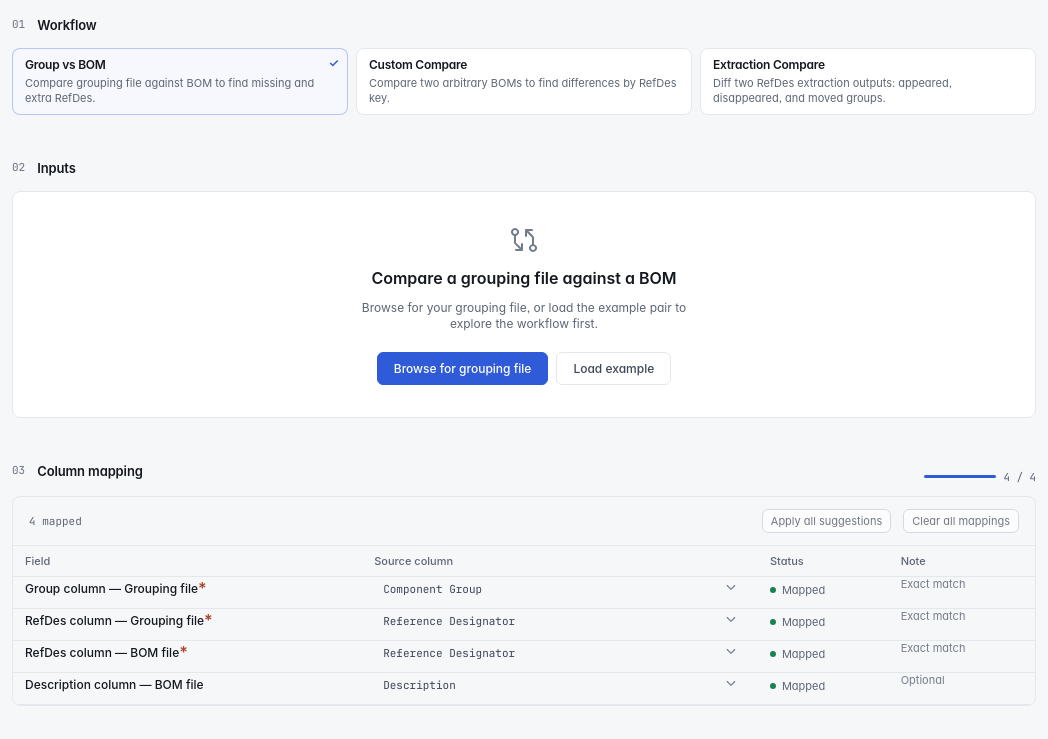
BomCompareTool custom compare workflow › Extraction Compare shows its two slots and hides the mapping card
This screenshot has width=1048, height=739.
Click the button "Extraction Compare": (868, 81) [700, 48, 1036, 115]
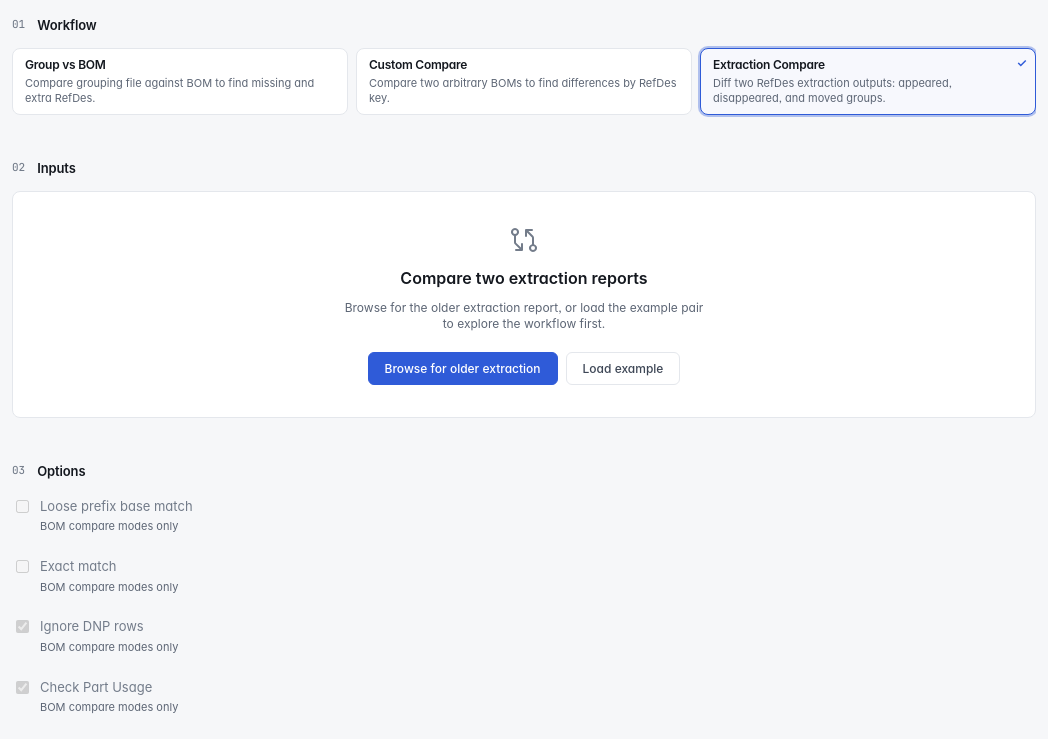
Expected: the heading "Column mapping" is gone
Expected: the checkbox labelled "Ignore DNP rows BOM compare modes only" is disabled, [16, 620, 29, 633]
Expected: the text "BOM compare modes only" below "Loose prefix base match" is shown, [40, 519, 178, 533]
# Entering through the card's EmptyState reveals both extraction slots.
Click the button "Browse for older extraction": (463, 369) [368, 352, 558, 385]
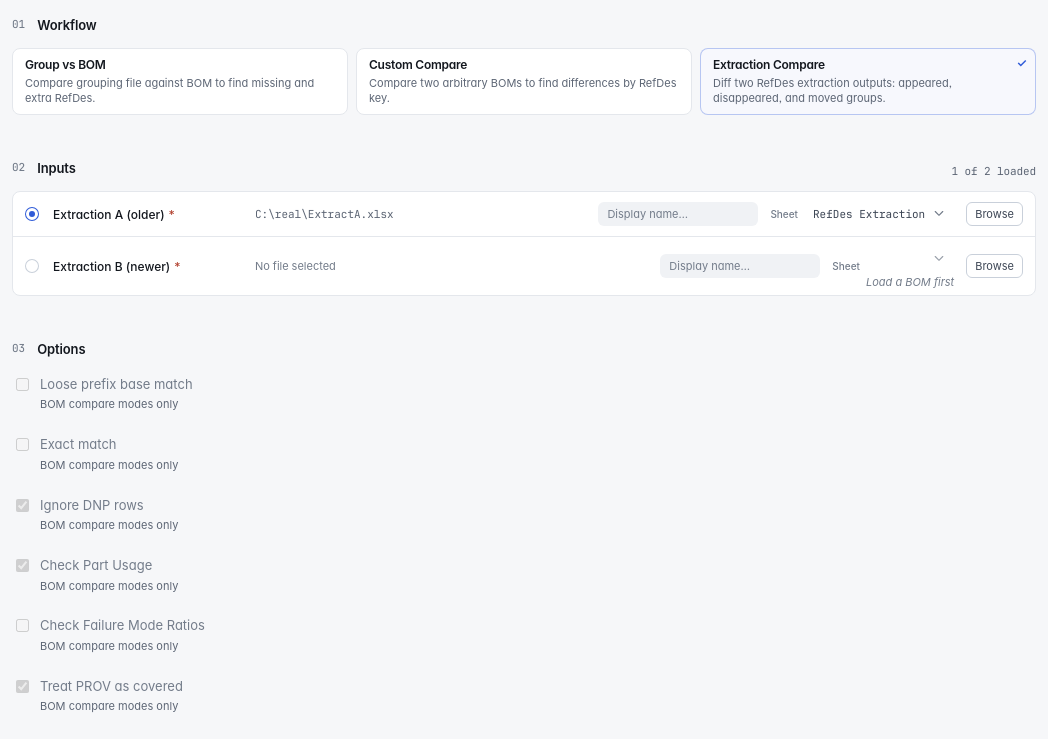
Expected: the text "Extraction A (older)" is shown, [53, 207, 165, 222]
Expected: the text "Extraction B (newer)" is shown, [53, 259, 170, 274]
